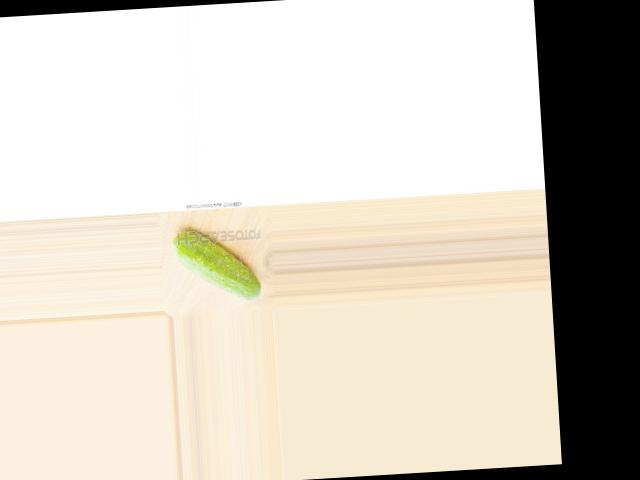cucumber: (170, 226, 261, 304)
